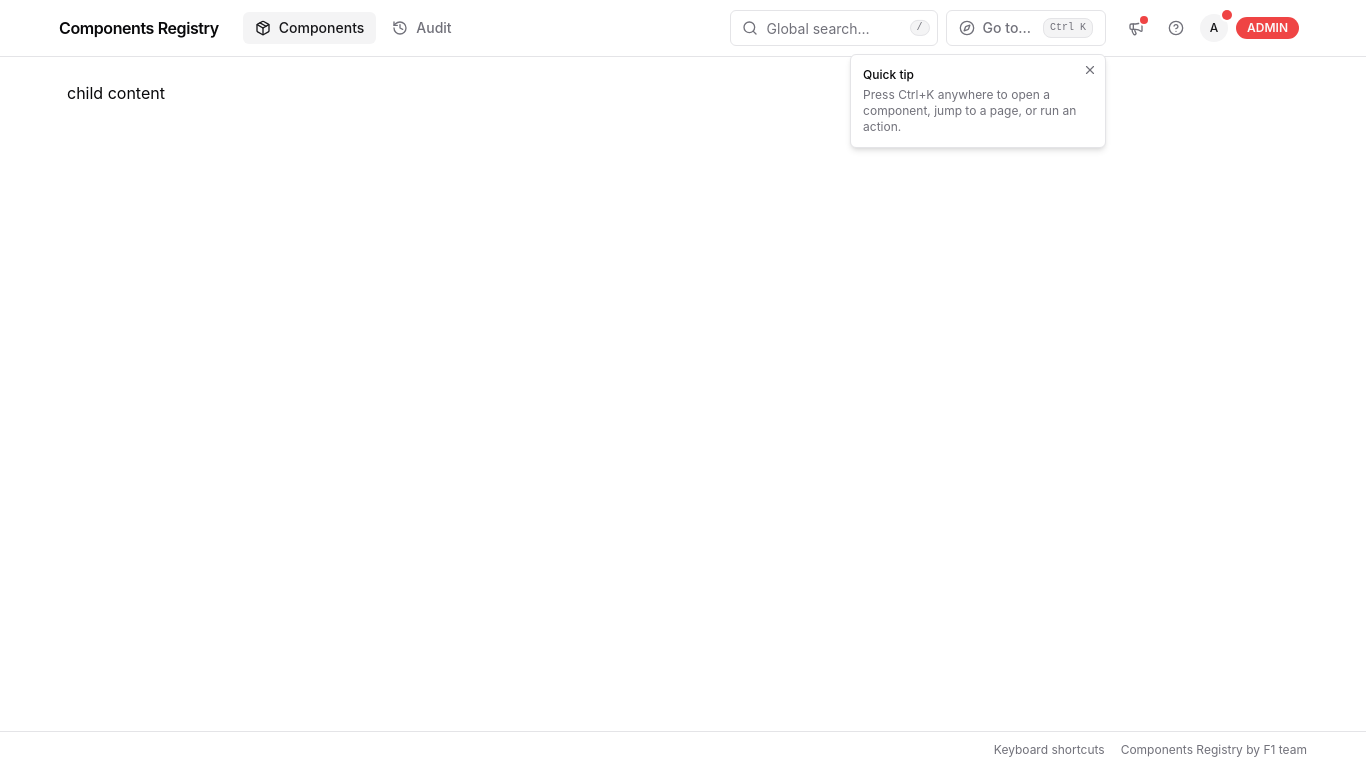
Test case: Layout open-feedback badge — admin-operator only › shows the open-feedback count for an admin operator (adminMode + IMPORT_DATA)
Expected: the element with test id "open-feedback-dot" is shown, [1222,10,1232,20]
Click the button with aria-label "Account".
click(1253, 28)  # box [1198,10,1307,46]
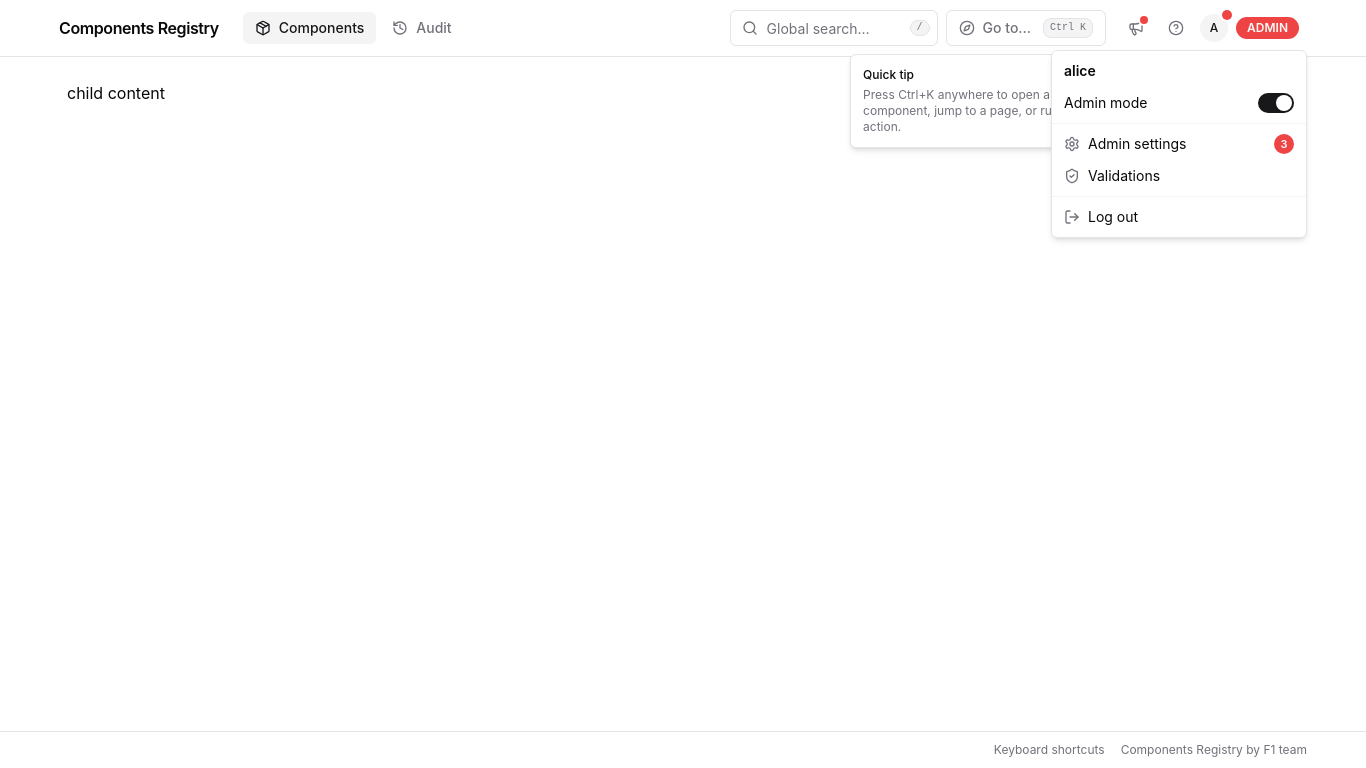
Now the text with test id "open-feedback-badge" reads "3", box [1280,136,1288,150]
